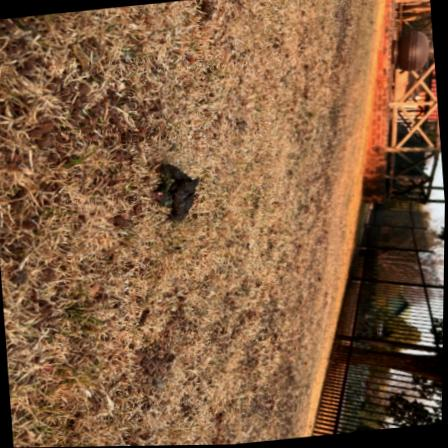dog-poop: (156, 159, 202, 227)
